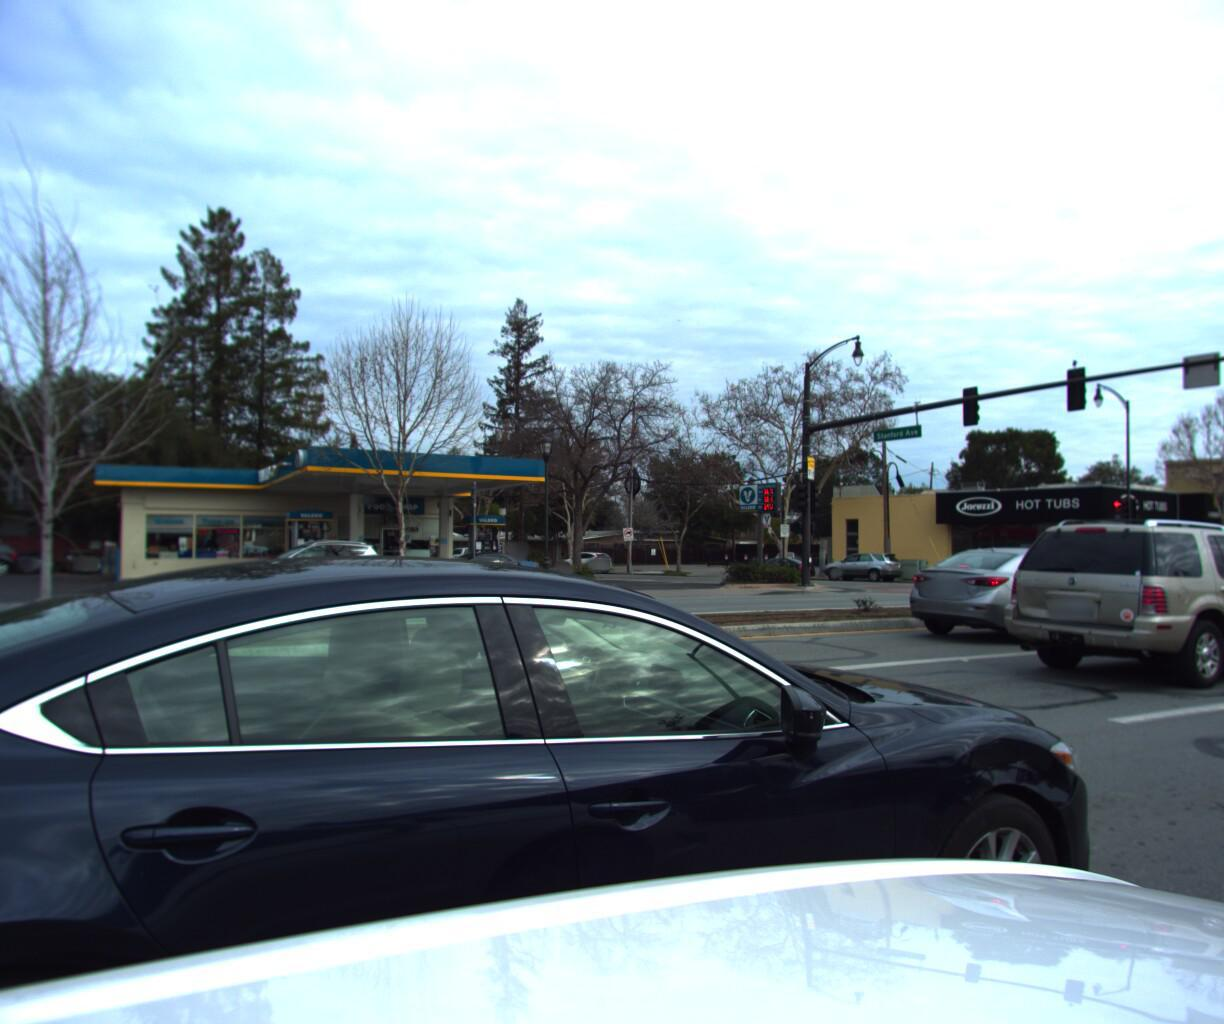car: (0, 539, 1113, 1024), (985, 519, 1224, 706), (888, 542, 1175, 652), (230, 537, 396, 596), (1153, 529, 1224, 631), (402, 549, 552, 591), (818, 548, 904, 581), (53, 548, 116, 575), (0, 549, 59, 577), (560, 550, 614, 573), (0, 541, 29, 577)
